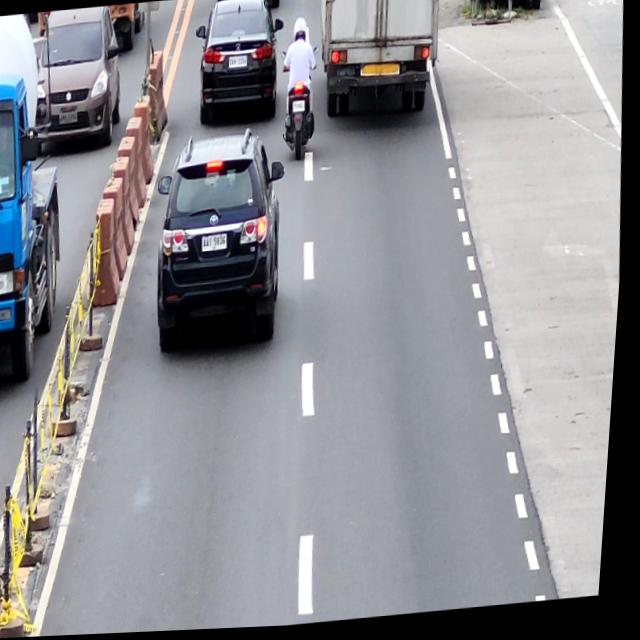Car: (150, 132, 299, 357), (190, 0, 291, 129)
License-Plate: (204, 233, 231, 253), (228, 57, 249, 70), (294, 103, 308, 115)
Motorcycle: (276, 46, 327, 167)
Truck: (312, 0, 445, 121)
